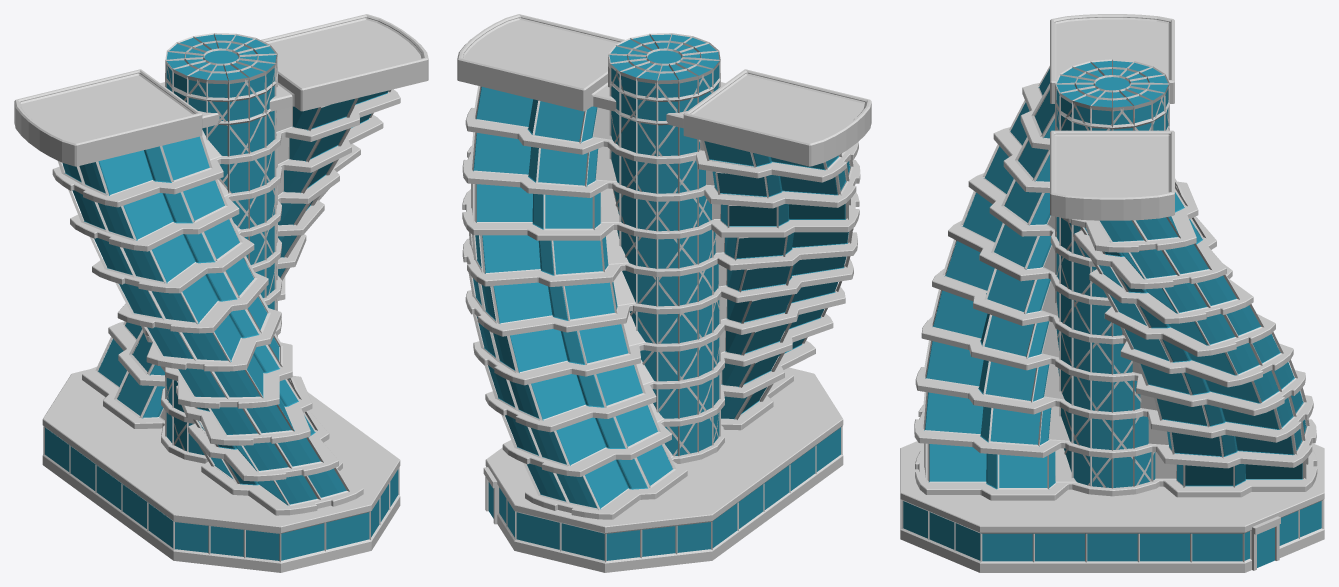
File: Helix Building 1.fbx
3 renders of one model, left to right at view 1: azimuth 30°, elevation 25°; view 2: azimuth 150°, elevation 25°; view 3: azimuth 270°, elevation 25°, orthographic.
Visible parts, largest first — view 1: main structure.001, base, platform.001, main structure, core.001, wire structure.001, wire core.001, balcony.001, base wires, wire helix.001, wire structure.002; view 2: main structure, main structure.001, base, core.001, platform.001, balcony.001, wire core.001, wire structure.002, wire helix.001, wire structure.001, base wires, Cube; view 3: main structure.001, main structure, base, platform.001, core.001, wire core.001, balcony.001, wire structure.002, wire structure.001, base wires, wire helix.001, Cube.
Boxes of the visible parts, x1=… form: main structure.001: x1=52, y1=130, x2=363, y2=515; base: x1=42, y1=369, x2=400, y2=572; platform.001: x1=14, y1=14, x2=428, y2=166; main structure: x1=82, y1=89, x2=400, y2=428; core.001: x1=166, y1=34, x2=276, y2=455; wire structure.001: x1=58, y1=136, x2=349, y2=506; wire core.001: x1=165, y1=33, x2=277, y2=452; balcony.001: x1=161, y1=131, x2=281, y2=463; base wires: x1=43, y1=426, x2=399, y2=562; wire helix.001: x1=166, y1=63, x2=276, y2=450; wire structure.002: x1=95, y1=90, x2=391, y2=418; main structure: x1=462, y1=87, x2=687, y2=519; main structure.001: x1=696, y1=140, x2=860, y2=430; base: x1=485, y1=367, x2=843, y2=572; core.001: x1=609, y1=34, x2=719, y2=455; platform.001: x1=457, y1=14, x2=871, y2=166; balcony.001: x1=607, y1=140, x2=724, y2=463; wire core.001: x1=608, y1=33, x2=720, y2=456; wire structure.002: x1=467, y1=86, x2=676, y2=510; wire helix.001: x1=611, y1=70, x2=719, y2=456; wire structure.001: x1=702, y1=140, x2=853, y2=419; base wires: x1=498, y1=426, x2=842, y2=562; Cube: x1=483, y1=467, x2=498, y2=524; main structure.001: x1=914, y1=68, x2=1080, y2=500; main structure: x1=1069, y1=181, x2=1317, y2=497; base: x1=900, y1=441, x2=1324, y2=572; platform.001: x1=1050, y1=14, x2=1174, y2=220; core.001: x1=1056, y1=61, x2=1168, y2=487; wire core.001: x1=1055, y1=59, x2=1169, y2=488; balcony.001: x1=1050, y1=217, x2=1159, y2=496; wire structure.002: x1=1080, y1=178, x2=1309, y2=487; wire structure.001: x1=921, y1=66, x2=1054, y2=489; base wires: x1=901, y1=500, x2=1323, y2=562; wire helix.001: x1=1056, y1=95, x2=1168, y2=487; Cube: x1=1251, y1=516, x2=1280, y2=570.
Bounding box in the file's own units: 679 × 743 × 658.
